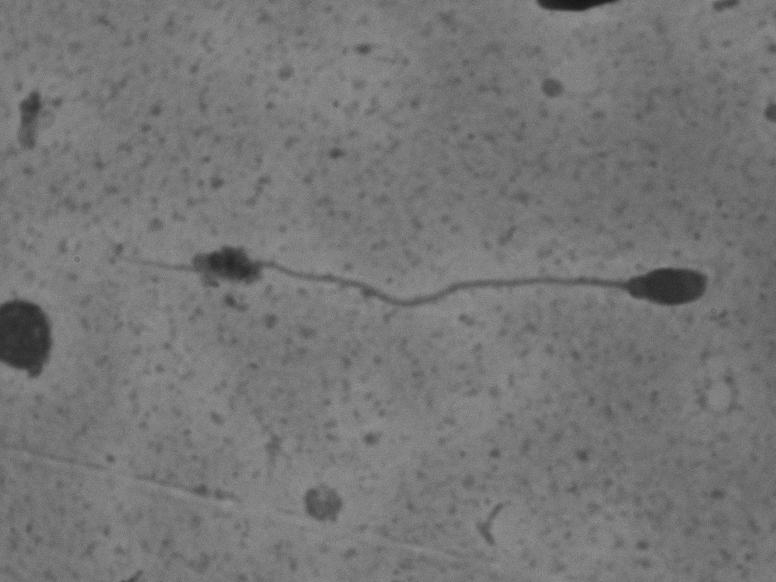Abnormal: (72, 174, 732, 348)
